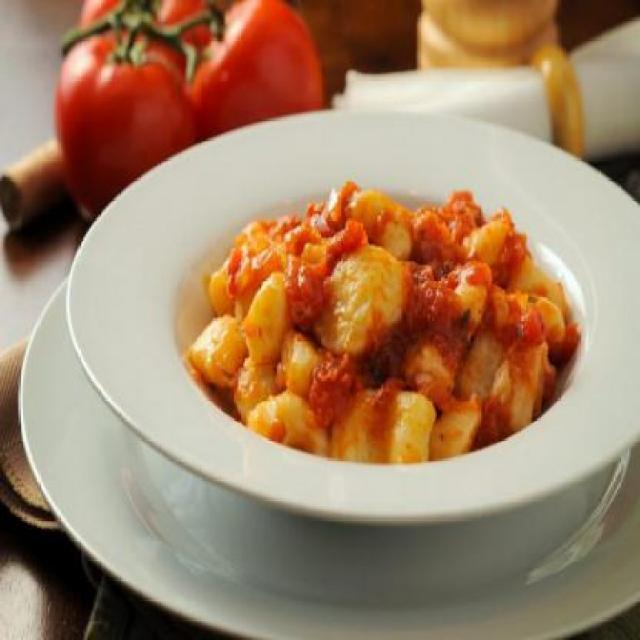Pasta al ragu: (154, 142, 596, 524)
